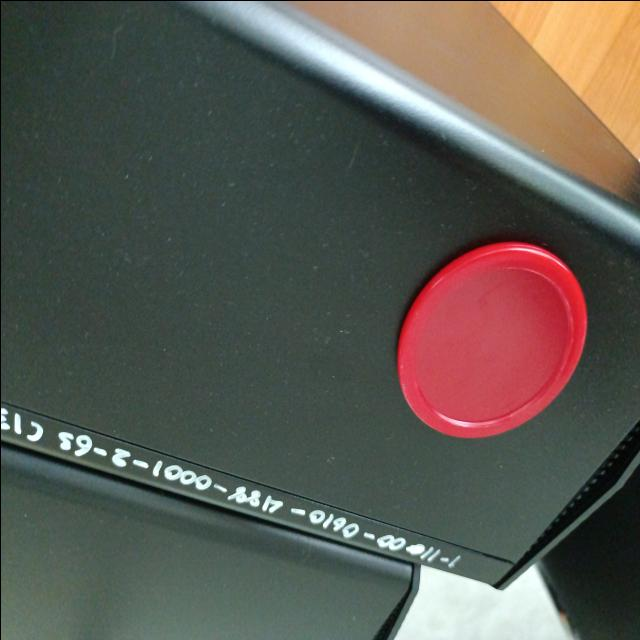chip: (386, 235, 592, 445)
